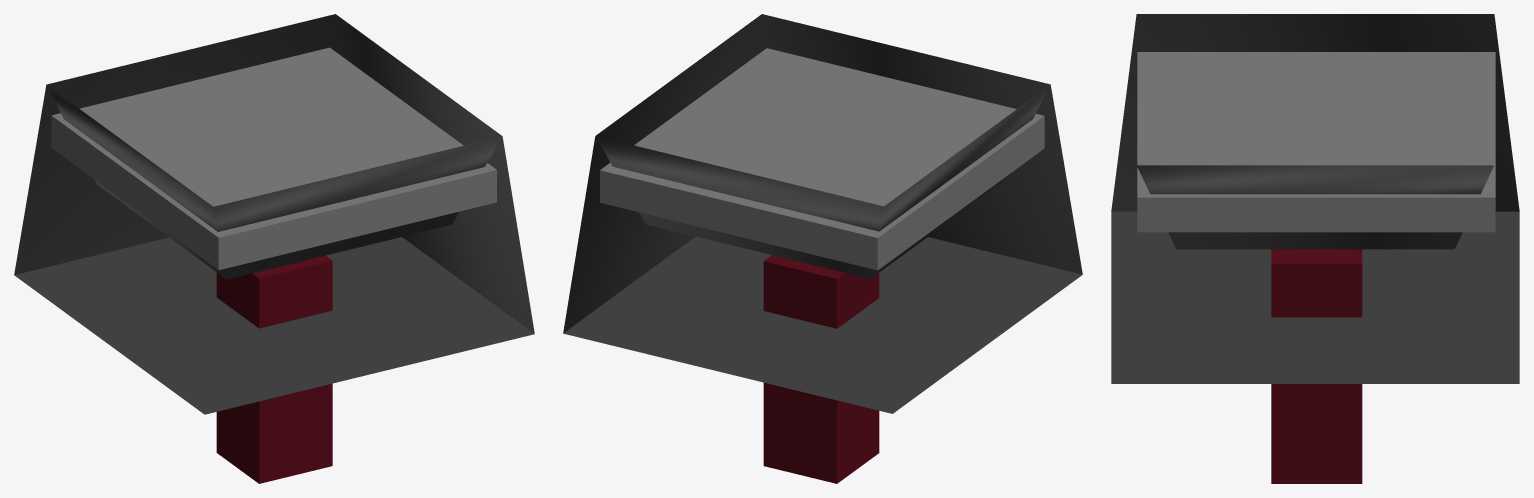
Rendered from wardrobe_lamp.obj.
The picture shows the model from 3 angles, left to right: view 1: azimuth 30°, elevation 25°; view 2: azimuth 150°, elevation 25°; view 3: azimuth 270°, elevation 25°; orthographic projection. The views are drawn at different scales.
Visible parts, largest first — view 1: polySurface2; view 2: polySurface2; view 3: polySurface2.
Part boxes in pixels (x1,y1,x2,y2): polySurface2: [14, 14, 534, 483]; polySurface2: [563, 14, 1082, 483]; polySurface2: [1111, 14, 1519, 483].
Bounding box in the file's own units: 0.243 × 0.2459 × 0.243.
3 materials, 3 textured.
